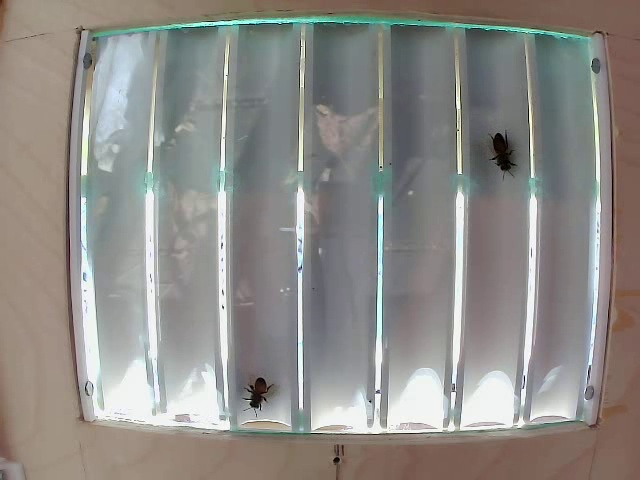bee: (234, 362, 278, 422), (491, 115, 521, 182)
